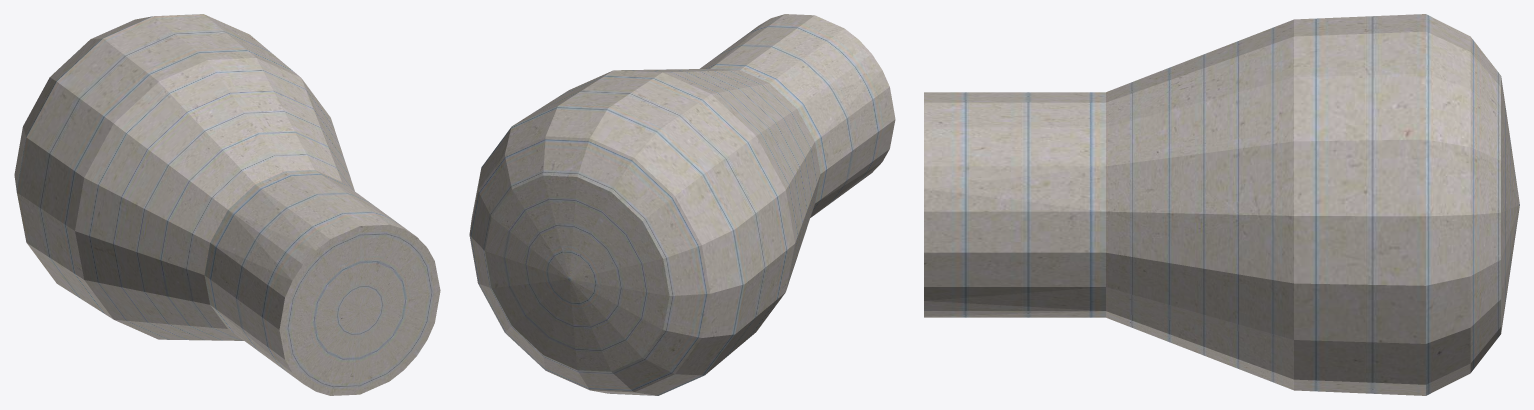
Rendered from bombillo.dae.
The picture shows the model from 3 angles, left to right: view 1: azimuth 30°, elevation 25°; view 2: azimuth 150°, elevation 25°; view 3: azimuth 270°, elevation 25°; orthographic projection. The views are drawn at different scales.
Parts seen in each view (by area): view 1: node; view 2: node; view 3: node.
Boxes of the visible parts, <box> form: node: <box>14,14,440,395</box>; node: <box>469,14,895,395</box>; node: <box>924,14,1519,395</box>.
Bounding box in the file's own units: 89.2 × 89.21 × 139.
